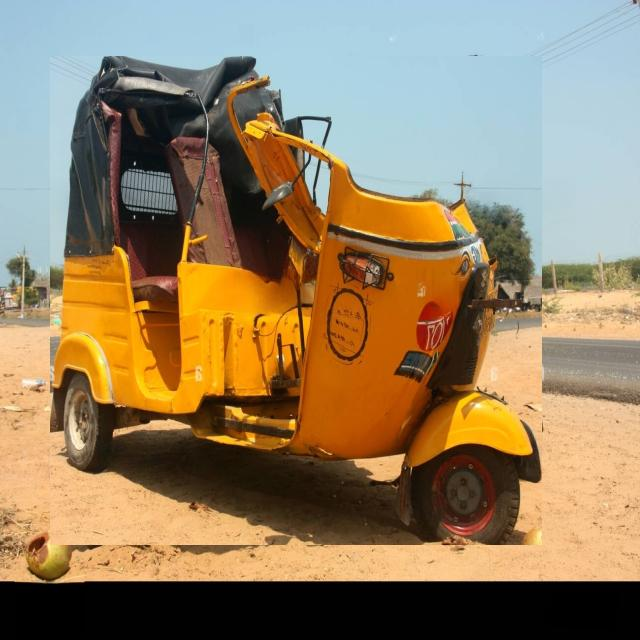accident: (50, 57, 542, 545)
